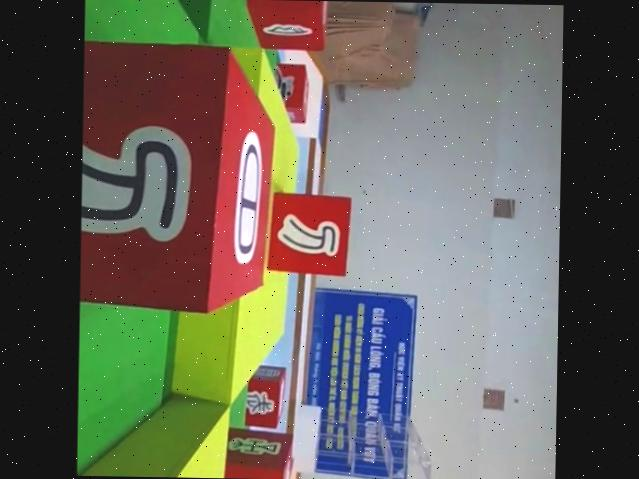R1: (255, 63, 308, 123)
R2 Fake: (79, 39, 277, 311), (265, 194, 350, 275), (236, 365, 284, 428)
R2 Real: (238, 0, 325, 50), (208, 429, 292, 479)
